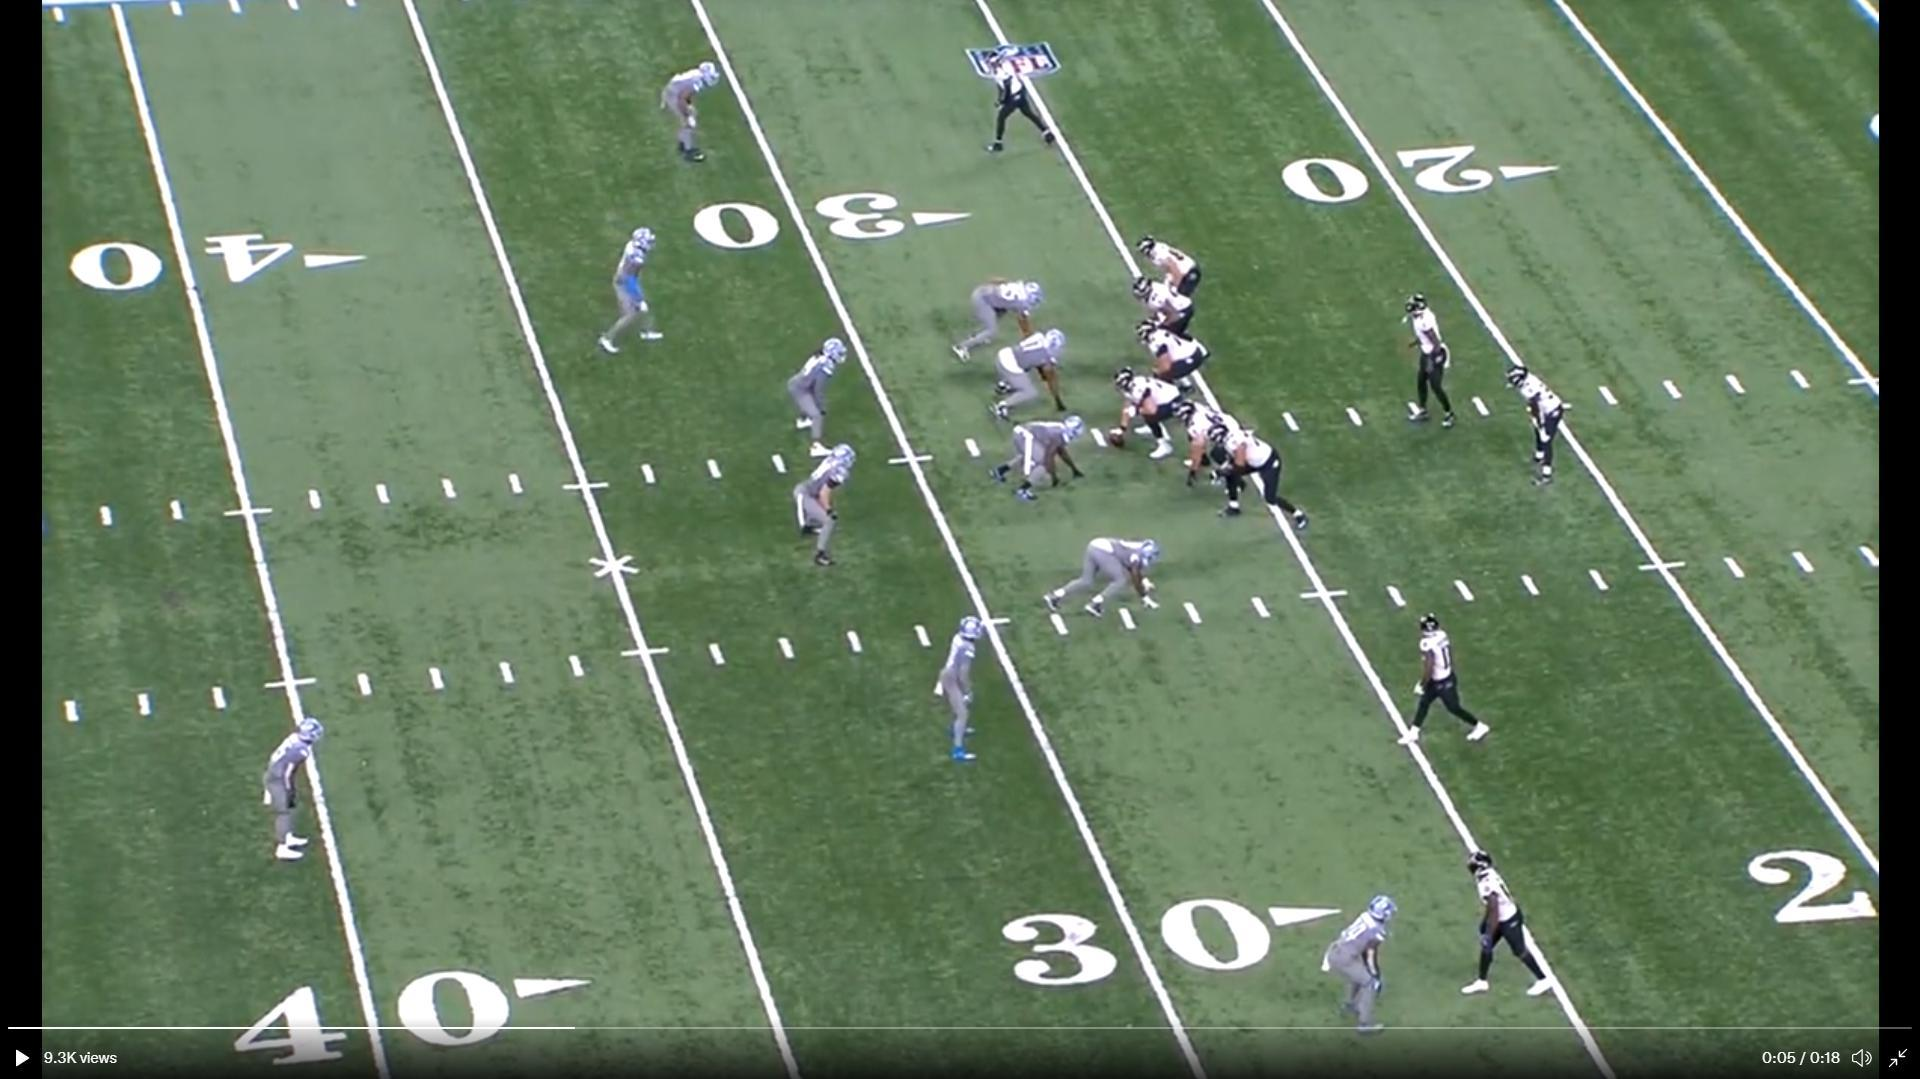defense: (1036, 536, 1164, 625), (253, 714, 326, 871), (1321, 896, 1395, 1039), (597, 223, 673, 359), (939, 608, 1001, 769), (992, 416, 1095, 508), (795, 438, 864, 571), (949, 276, 1047, 365), (992, 328, 1075, 426), (789, 332, 853, 456), (663, 59, 727, 171)
oline: (1209, 421, 1313, 533), (1109, 368, 1191, 464), (1168, 397, 1242, 501), (1138, 322, 1212, 397), (1131, 274, 1200, 342)
qb: (1404, 293, 1462, 429)
skill: (1394, 607, 1494, 757), (1464, 853, 1557, 1004), (985, 49, 1065, 165), (1501, 360, 1564, 492), (1135, 235, 1204, 311)
